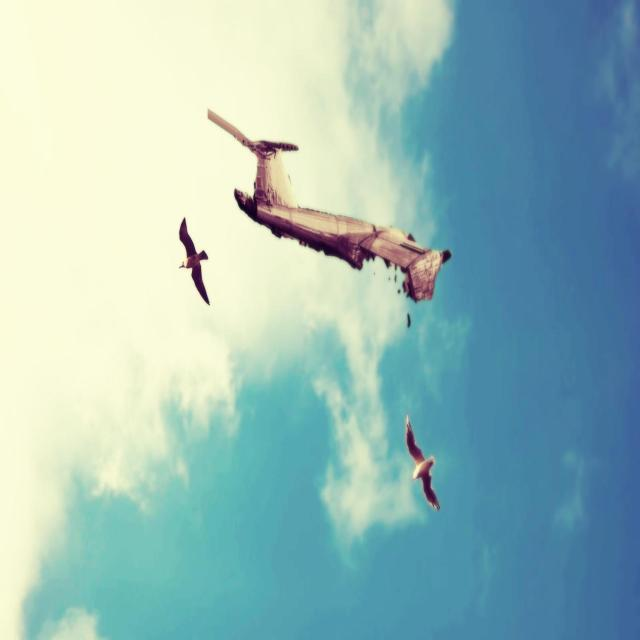airplane: (206, 107, 452, 325)
